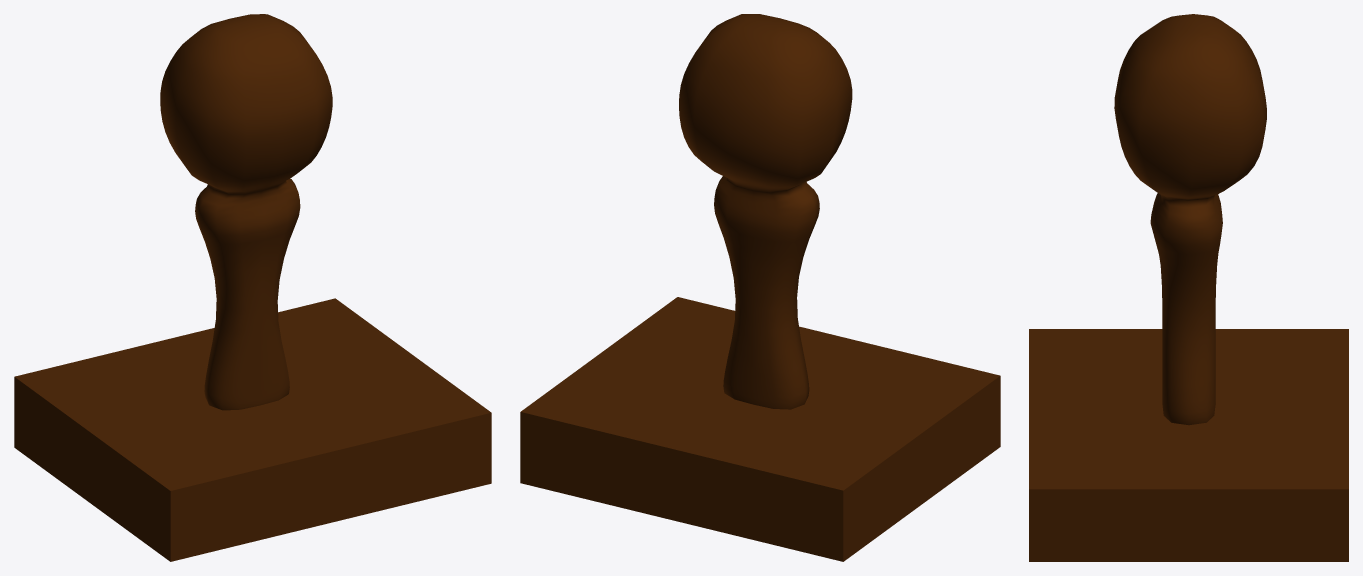
The model's file is carimbo.fbx.
The picture shows the model from 3 angles, left to right: view 1: azimuth 30°, elevation 25°; view 2: azimuth 150°, elevation 25°; view 3: azimuth 270°, elevation 25°; orthographic projection. The views are drawn at different scales.
Visible parts, largest first — view 1: Cube.001; view 2: Cube.001; view 3: Cube.001.
Boxes of the visible parts, x1=… form: Cube.001: x1=14, y1=14, x2=491, y2=561; Cube.001: x1=520, y1=14, x2=1000, y2=561; Cube.001: x1=1029, y1=14, x2=1348, y2=561.
Size of the model in its own units: 237 by 313 by 200.
